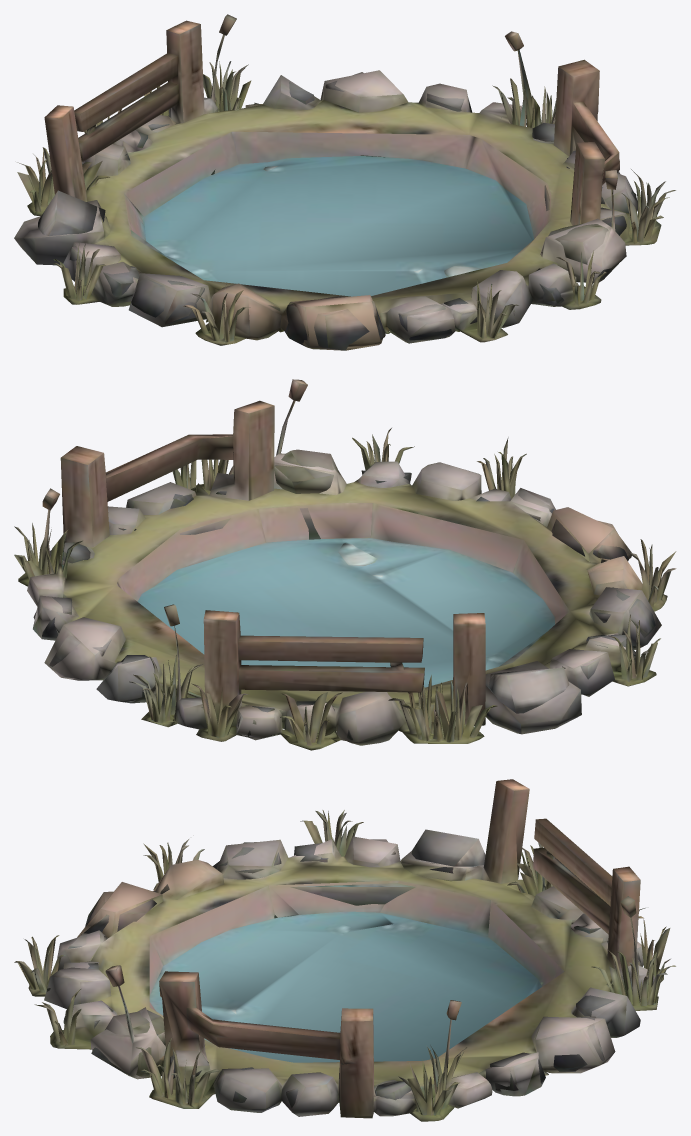
Rendered from chitang-1.glb.
3 views of the same model, one above another, from view 1: azimuth 30°, elevation 25°; view 2: azimuth 150°, elevation 25°; view 3: azimuth 270°, elevation 25° (orthographic). The views are drawn at different scales.
Parts seen in each view (by area): view 1: node_0; view 2: node_0; view 3: node_0.
Part boxes in pixels (x1=…): node_0: x1=14, y1=14, x2=675, y2=350; node_0: x1=14, y1=379, x2=676, y2=750; node_0: x1=14, y1=779, x2=675, y2=1121.
Size of the model in its own units: 1.13 by 0.2233 by 1.13.
1 material, 1 textured.
